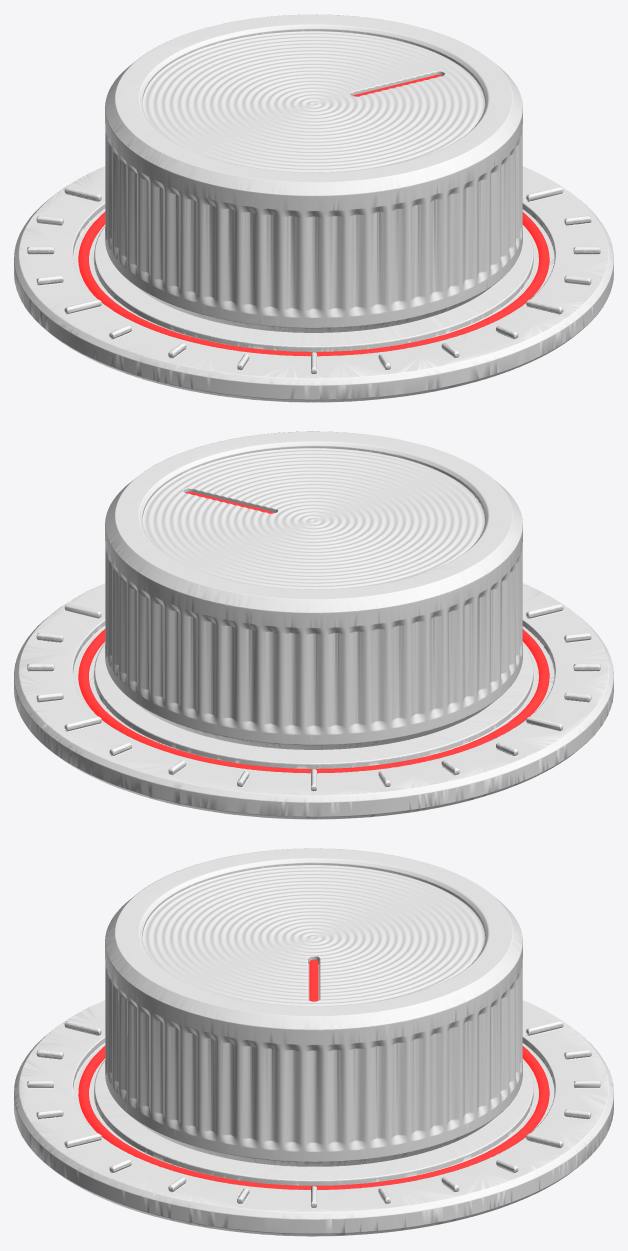
Rendered from knob-motion-direction.glb.
The picture shows the model from 3 angles, top to bottom: view 1: azimuth 30°, elevation 25°; view 2: azimuth 150°, elevation 25°; view 3: azimuth 270°, elevation 25°; orthographic projection.
Visible parts, largest first — view 1: Knob, Dial, GlowRing; view 2: Knob, Dial, GlowRing; view 3: Knob, Dial, GlowRing.
Part boxes in pixels (x1,y1,x2,y2): Knob: [105, 14, 522, 332]; Dial: [14, 166, 613, 402]; GlowRing: [78, 212, 549, 356]; Knob: [105, 431, 522, 749]; Dial: [14, 583, 613, 819]; GlowRing: [78, 629, 549, 773]; Knob: [105, 848, 522, 1166]; Dial: [14, 1000, 613, 1236]; GlowRing: [78, 1046, 549, 1189].
Bounding box in the file's own units: 2.24 × 0.7402 × 2.24.
